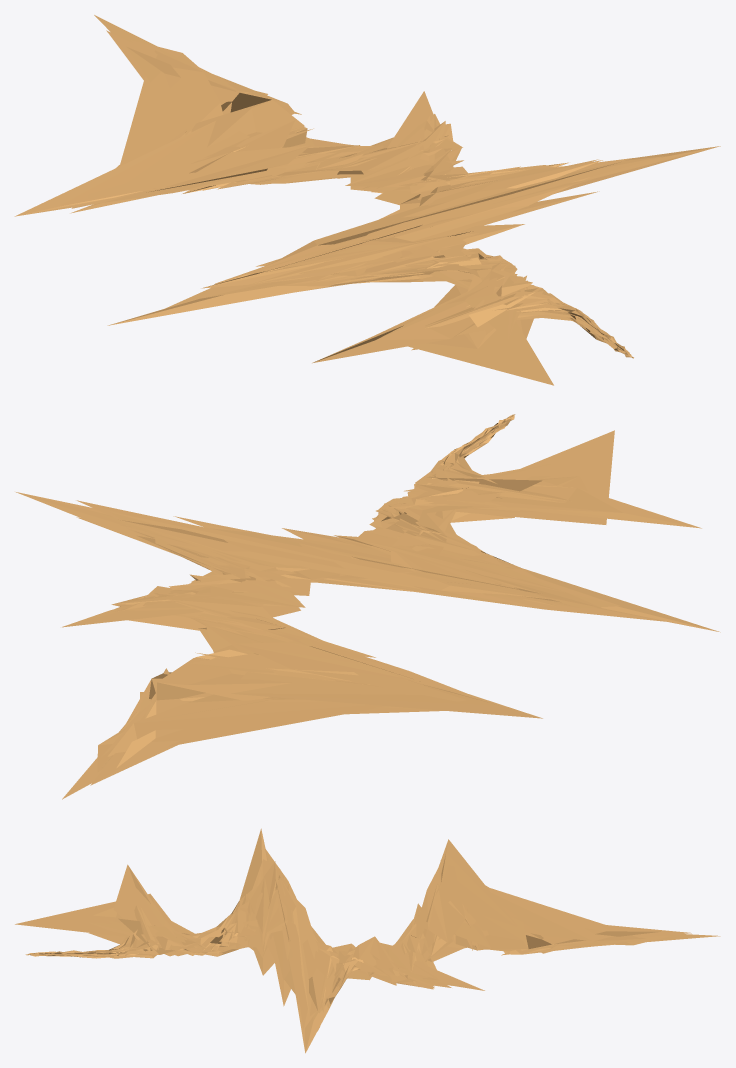
Rendered from Sand1.glb.
3 renders of one model, top to bottom at view 1: azimuth 30°, elevation 25°; view 2: azimuth 150°, elevation 25°; view 3: azimuth 270°, elevation 25°, orthographic. The views are drawn at different scales.
Visible parts, largest first — view 1: Sand1; view 2: Sand1; view 3: Sand1.
Part boxes in pixels (x1,y1,x2,y2): Sand1: (14, 15, 720, 385); Sand1: (16, 414, 720, 799); Sand1: (15, 828, 720, 1053).
Bounding box in the file's own units: 10.26 × 0.1634 × 13.62.
